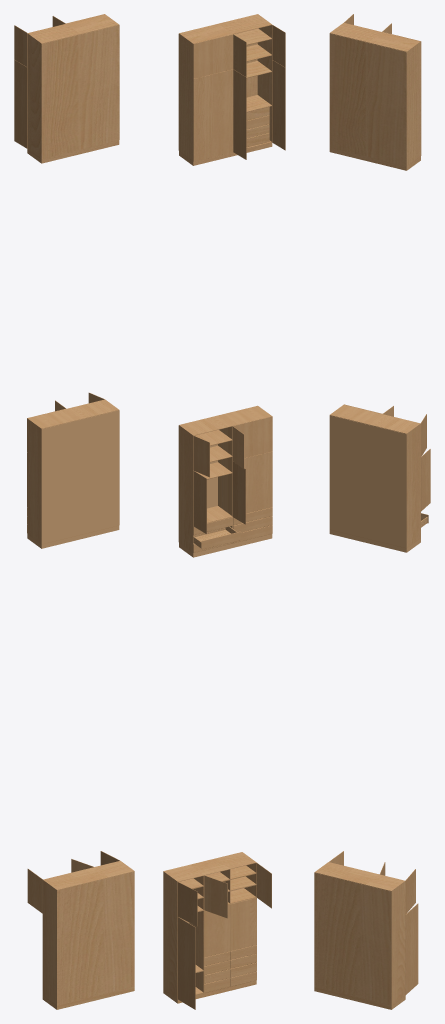
Rendered from lockerGSAP.glb.
3 renders of one model, left to right at view 1: azimuth 30°, elevation 25°; view 2: azimuth 210°, elevation 25°; view 3: azimuth 330°, elevation 25°, orthographic. The views are drawn at different scales.
Parts seen in each view (by area): view 1: G11, G3, G2; view 2: G11, G3, G2; view 3: G3, G2, G11.
Part boxes in pixels (x1,y1,x2,y2): G11: (14,14,119,163); G3: (27,851,134,1009); G2: (27,392,119,548); G11: (178,14,285,165); G3: (163,852,271,1009); G2: (178,405,272,557); G3: (314,851,418,1009); G2: (329,404,430,552); G11: (329,14,421,170).
Size of the model in its own units: 1.94 by 22.3 by 1.74.
4 materials, 3 textured.
